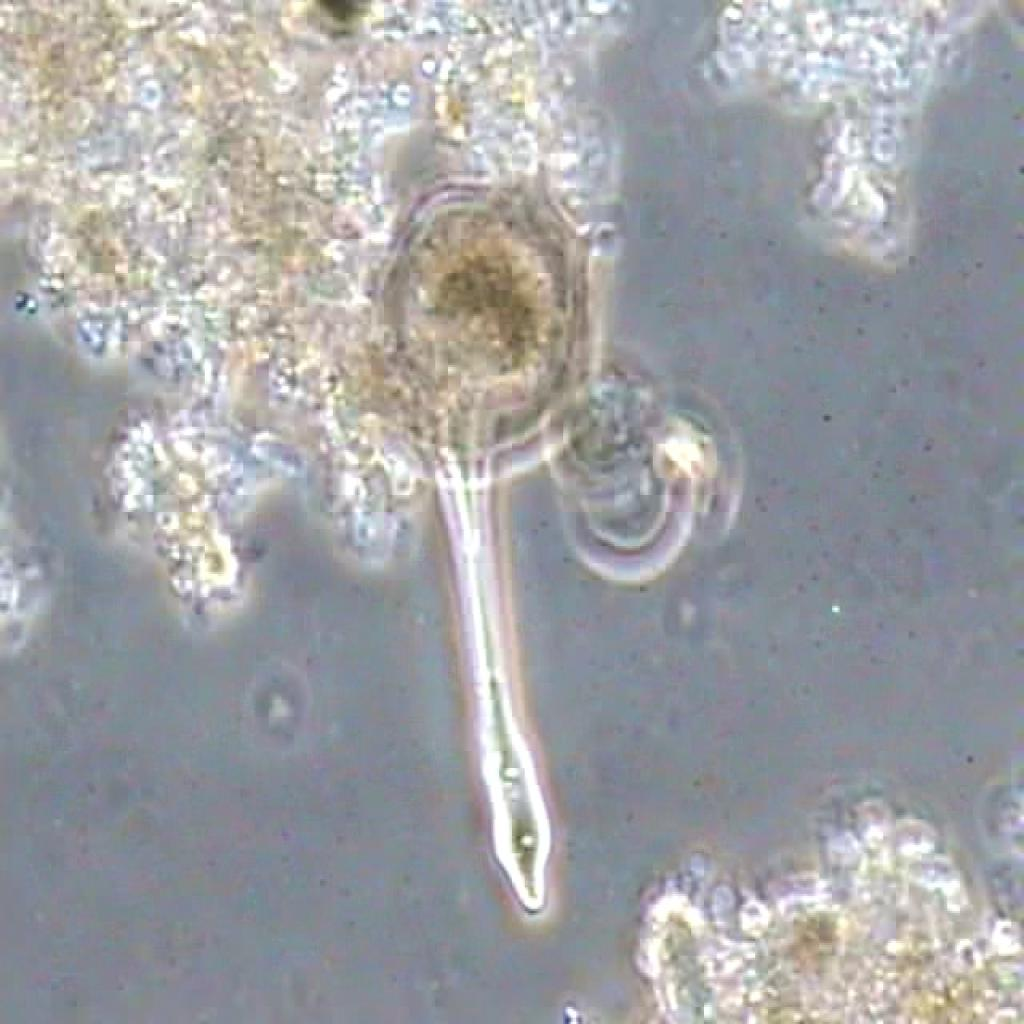Arcella: (343, 154, 607, 938)
